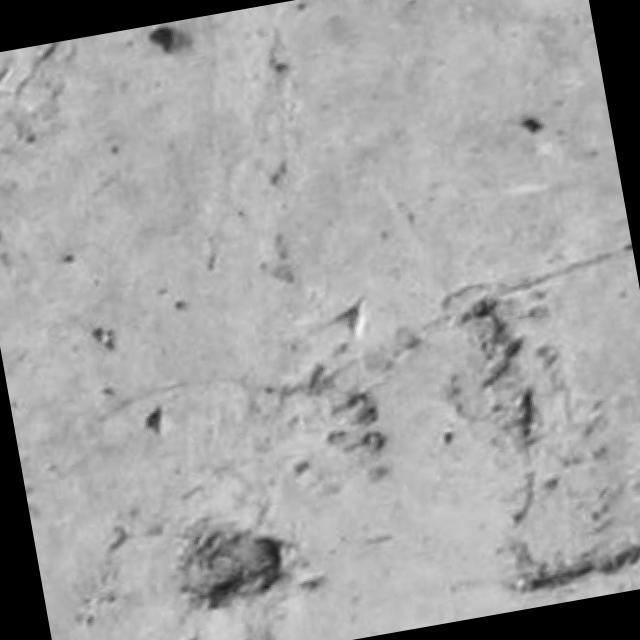crack: (441, 243, 633, 310), (181, 520, 282, 607), (510, 543, 639, 593), (462, 297, 522, 386), (14, 42, 60, 98), (517, 387, 535, 445)
